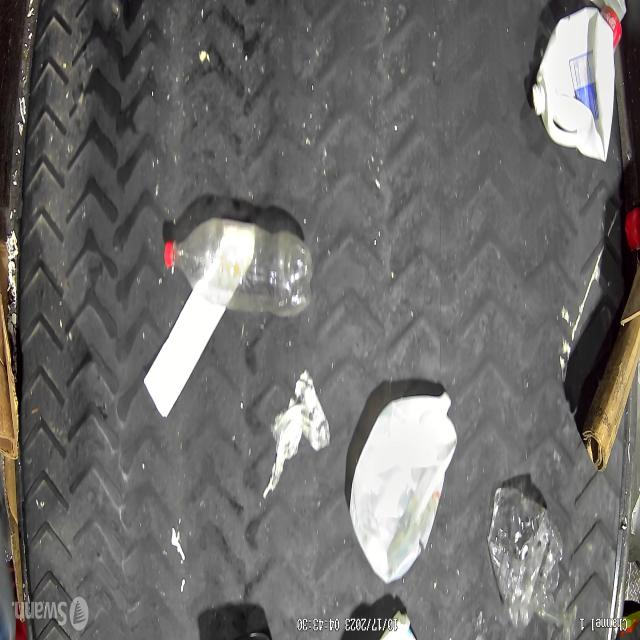milk_jug: (348, 388, 457, 584), (530, 5, 617, 167)
plastic_bottle: (163, 218, 314, 315)
